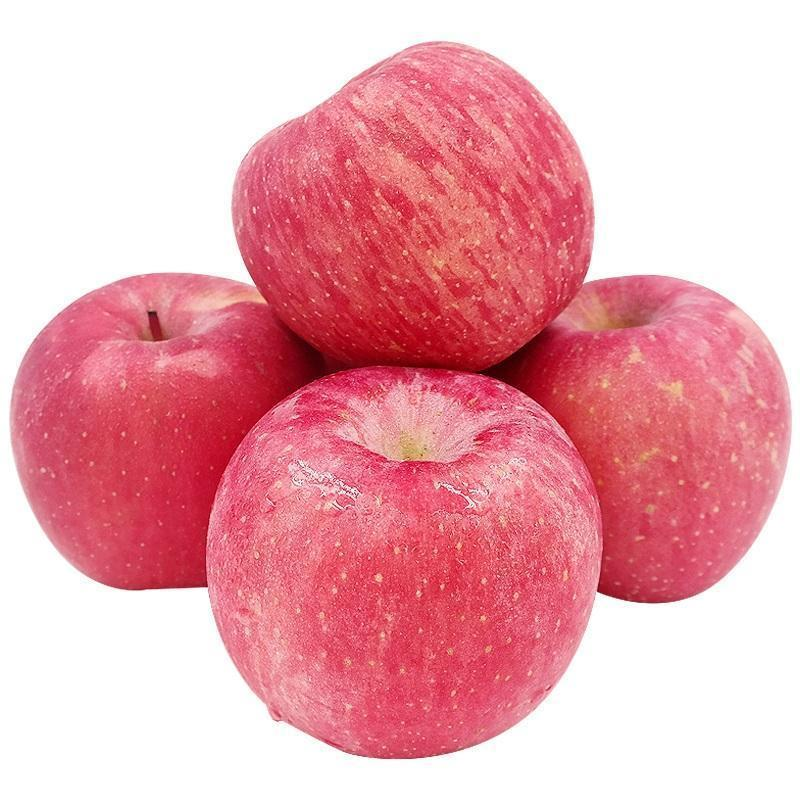apple: (208, 372, 612, 760), (234, 41, 595, 374), (7, 273, 335, 602), (477, 268, 798, 602)
